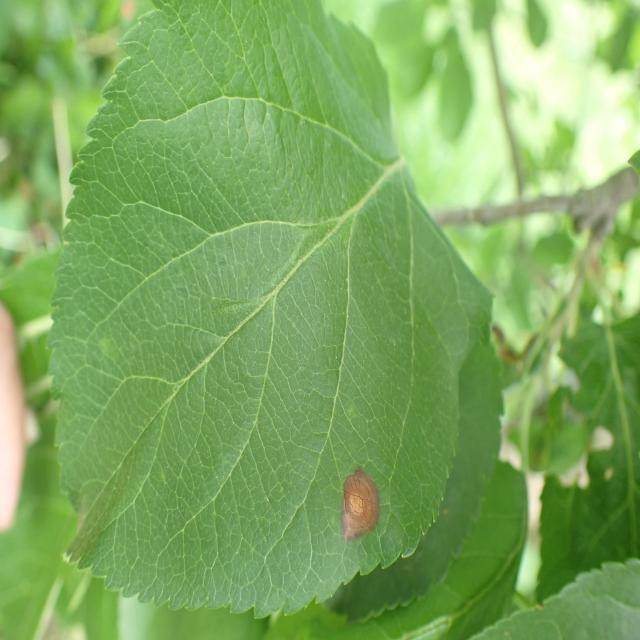Black Rot: (325, 434, 404, 560)
